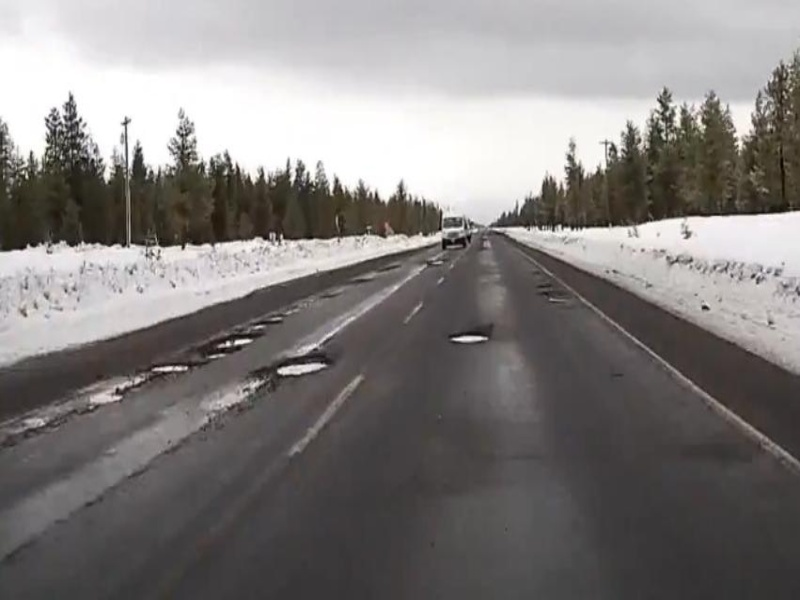pothole: (268, 350, 334, 383), (208, 330, 267, 348), (446, 327, 490, 350), (146, 362, 200, 373)
